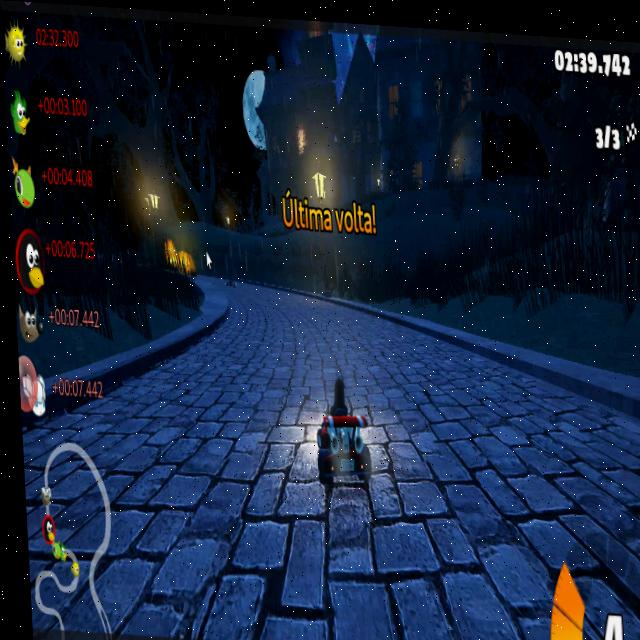player_kart: (300, 374, 383, 499)
